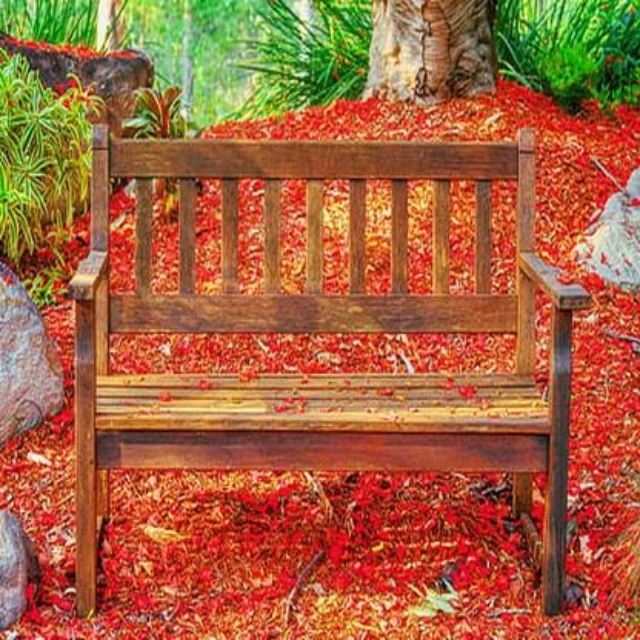obstacle: (62, 118, 597, 622)
